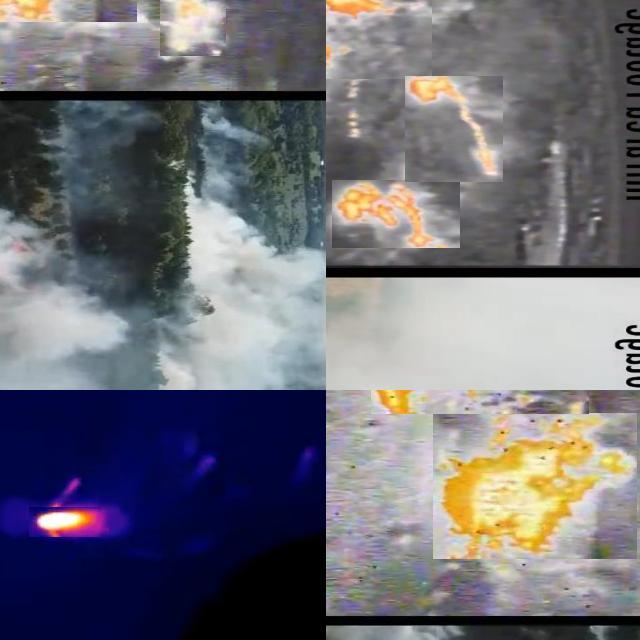fire: (433, 414, 637, 560), (405, 77, 503, 183), (332, 181, 460, 249), (327, 1, 432, 80), (371, 391, 589, 415), (160, 1, 226, 57), (29, 508, 101, 538)
